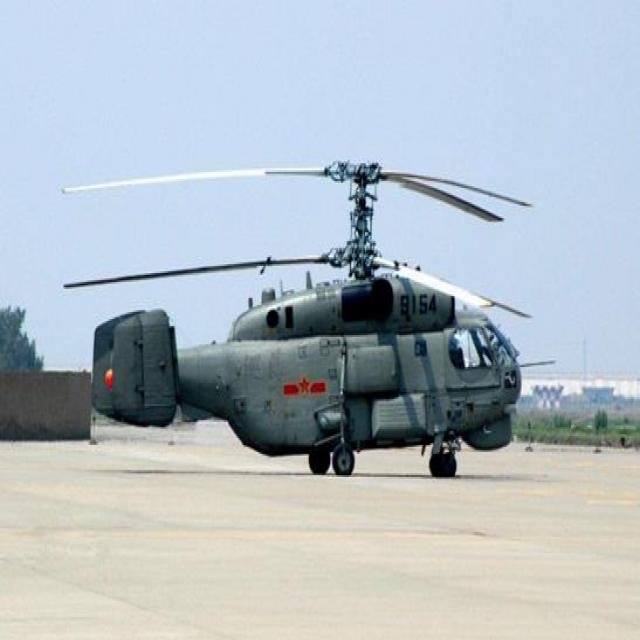MIL_HELO: (50, 141, 558, 511)
